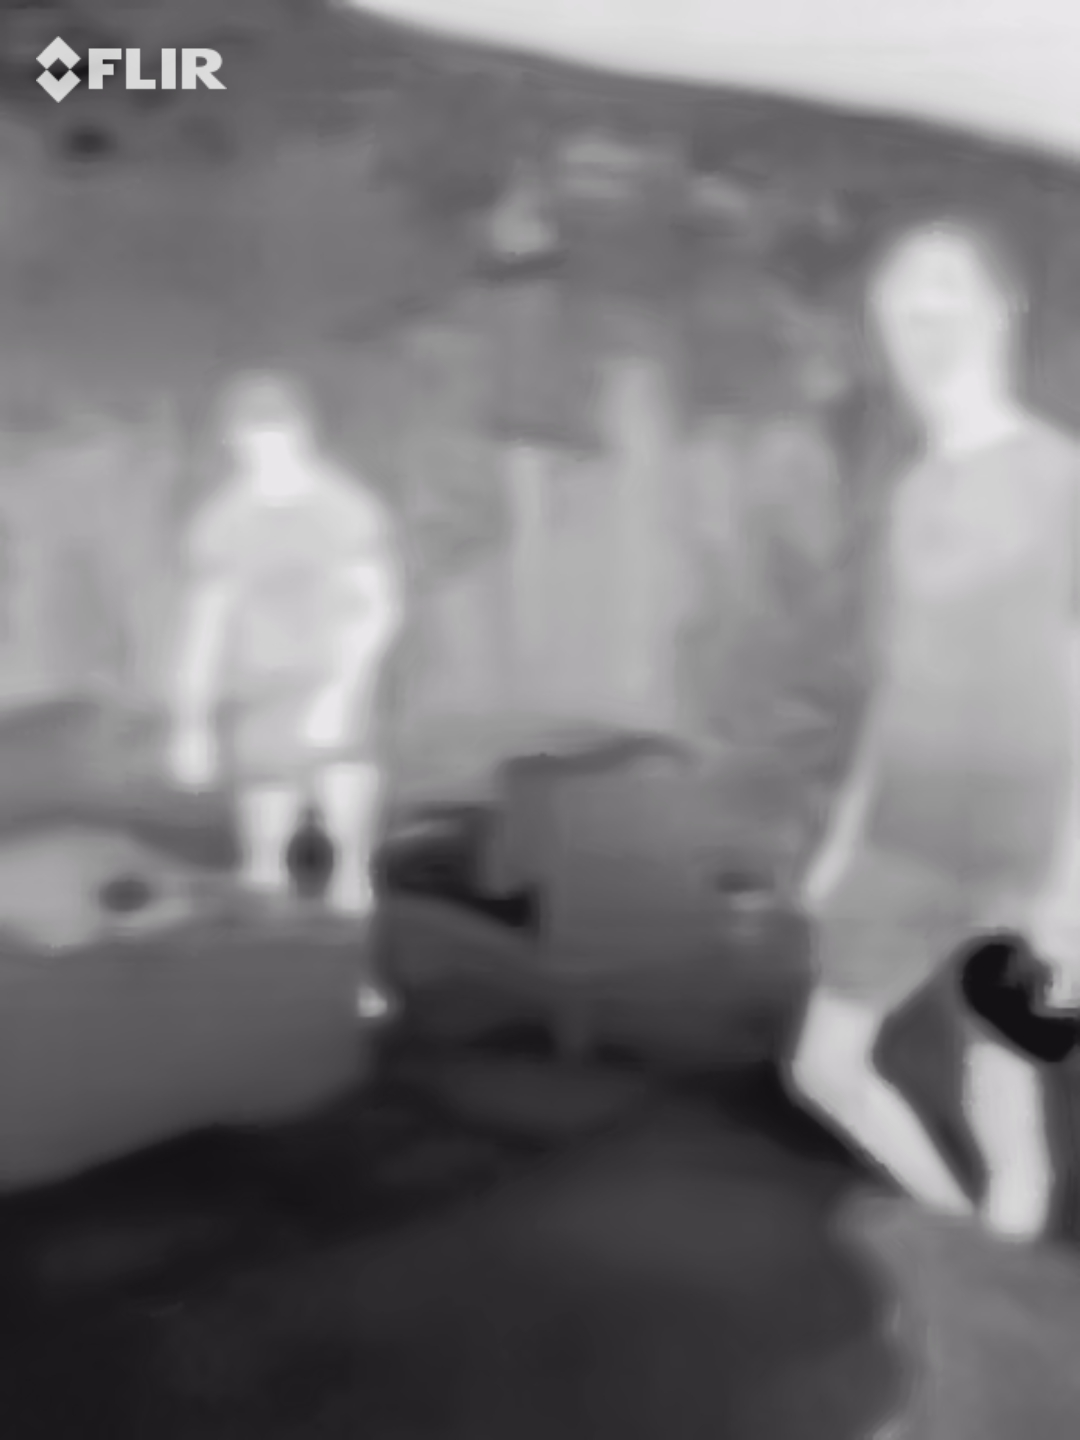head: (865, 228, 1033, 416), (212, 368, 318, 484)
